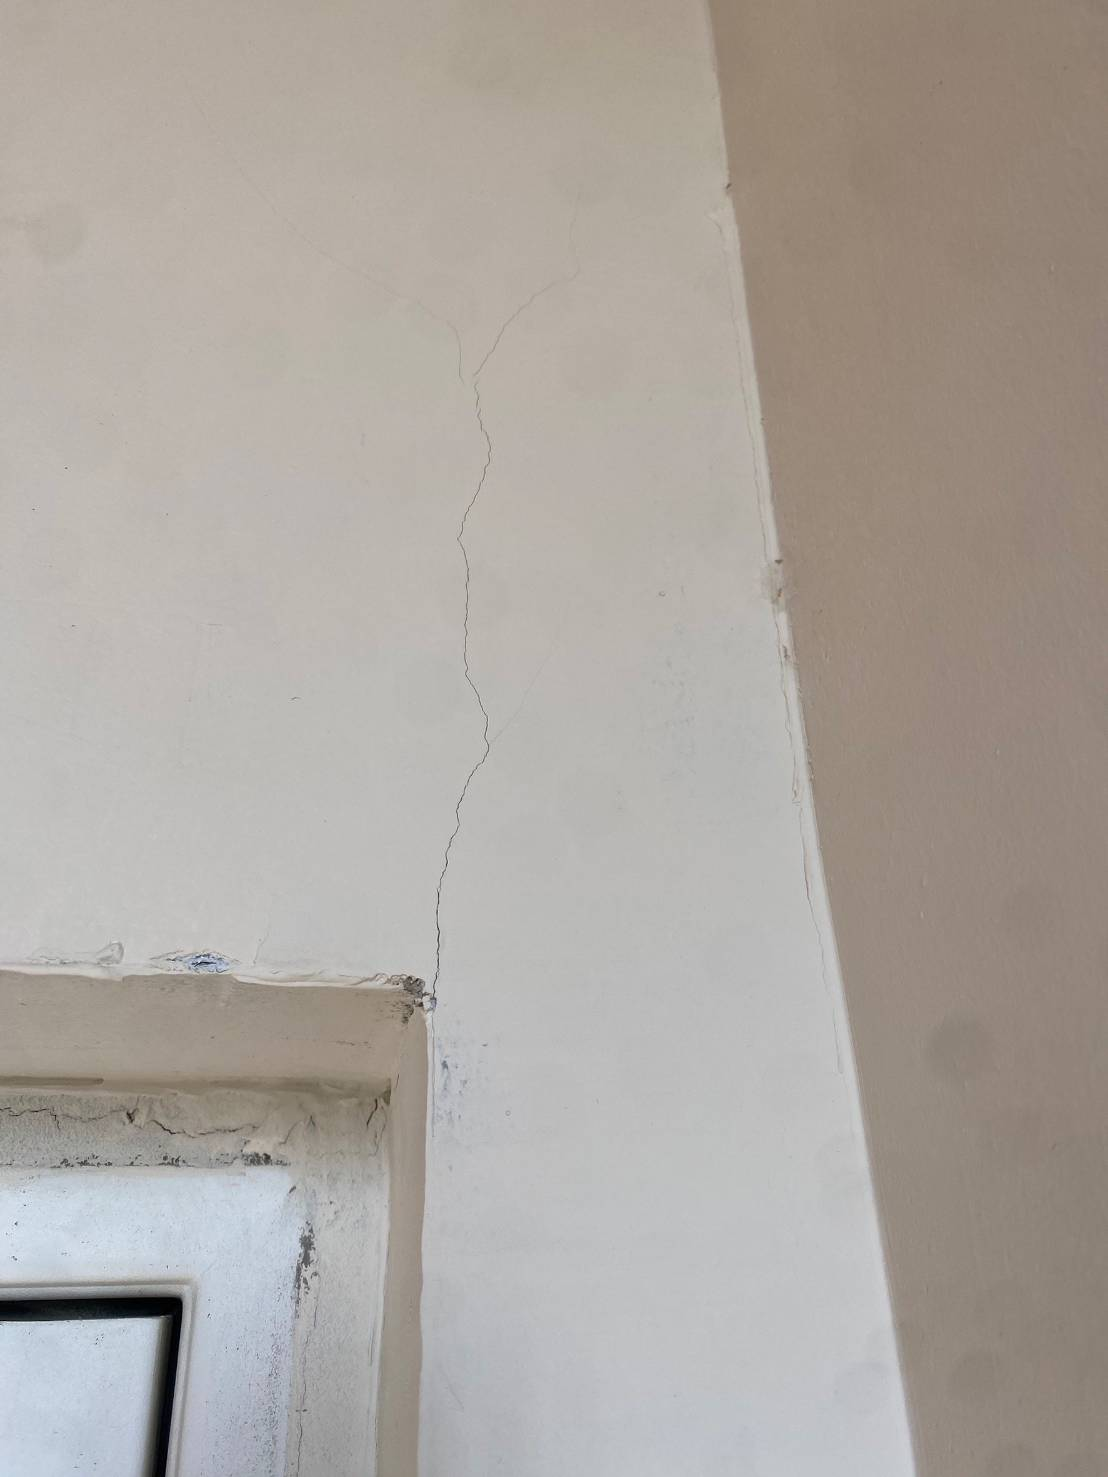Low: (406, 198, 651, 1010)
